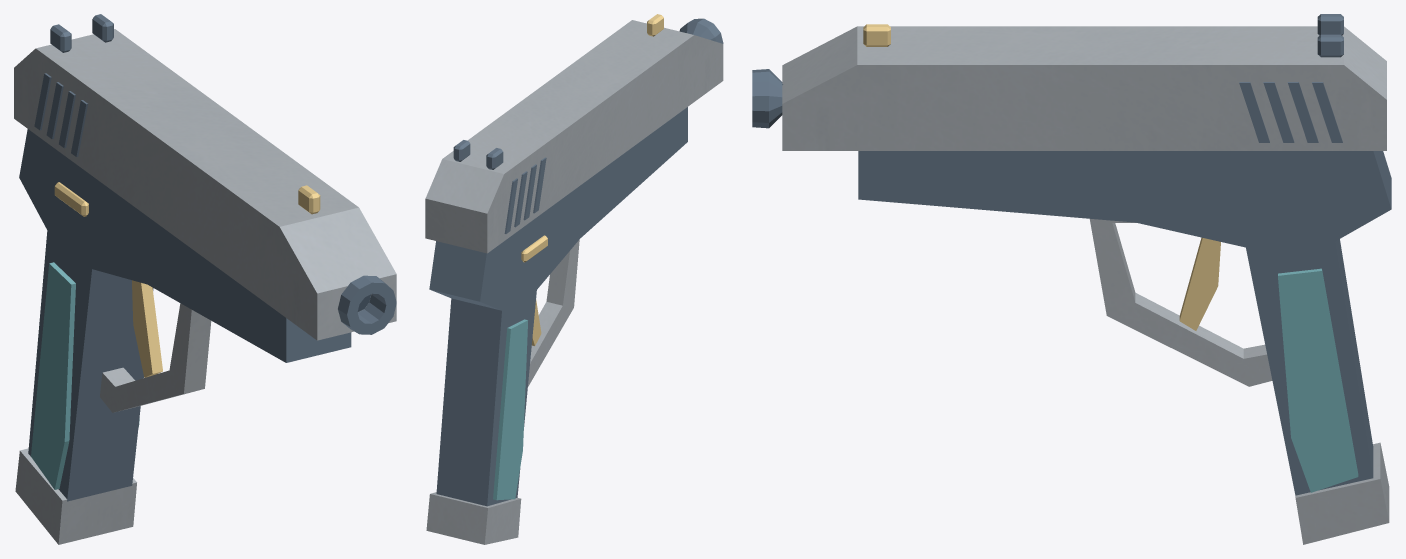
The model's file is pistol.glb.
3 renders of one model, left to right at view 1: azimuth 30°, elevation 25°; view 2: azimuth 150°, elevation 25°; view 3: azimuth 270°, elevation 25°, orthographic. The views are drawn at different scales.
Visible parts, largest first — view 1: pistol; view 2: pistol; view 3: pistol.
Part boxes in pixels (bbox=[...]): pistol: bbox=[14, 14, 396, 544]; pistol: bbox=[425, 14, 723, 544]; pistol: bbox=[752, 14, 1391, 544].
Bounding box in the file's own units: 0.0905 × 0.501 × 0.579.
5 materials, 1 textured.
